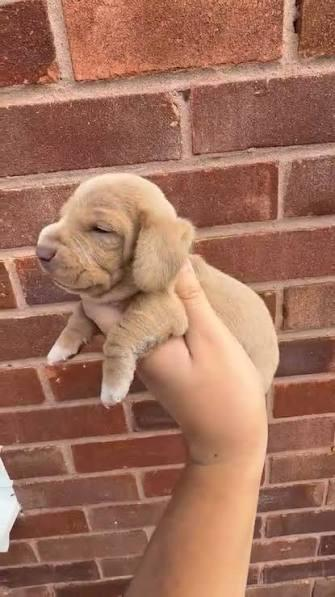puppy-dog: (35, 173, 279, 408)
